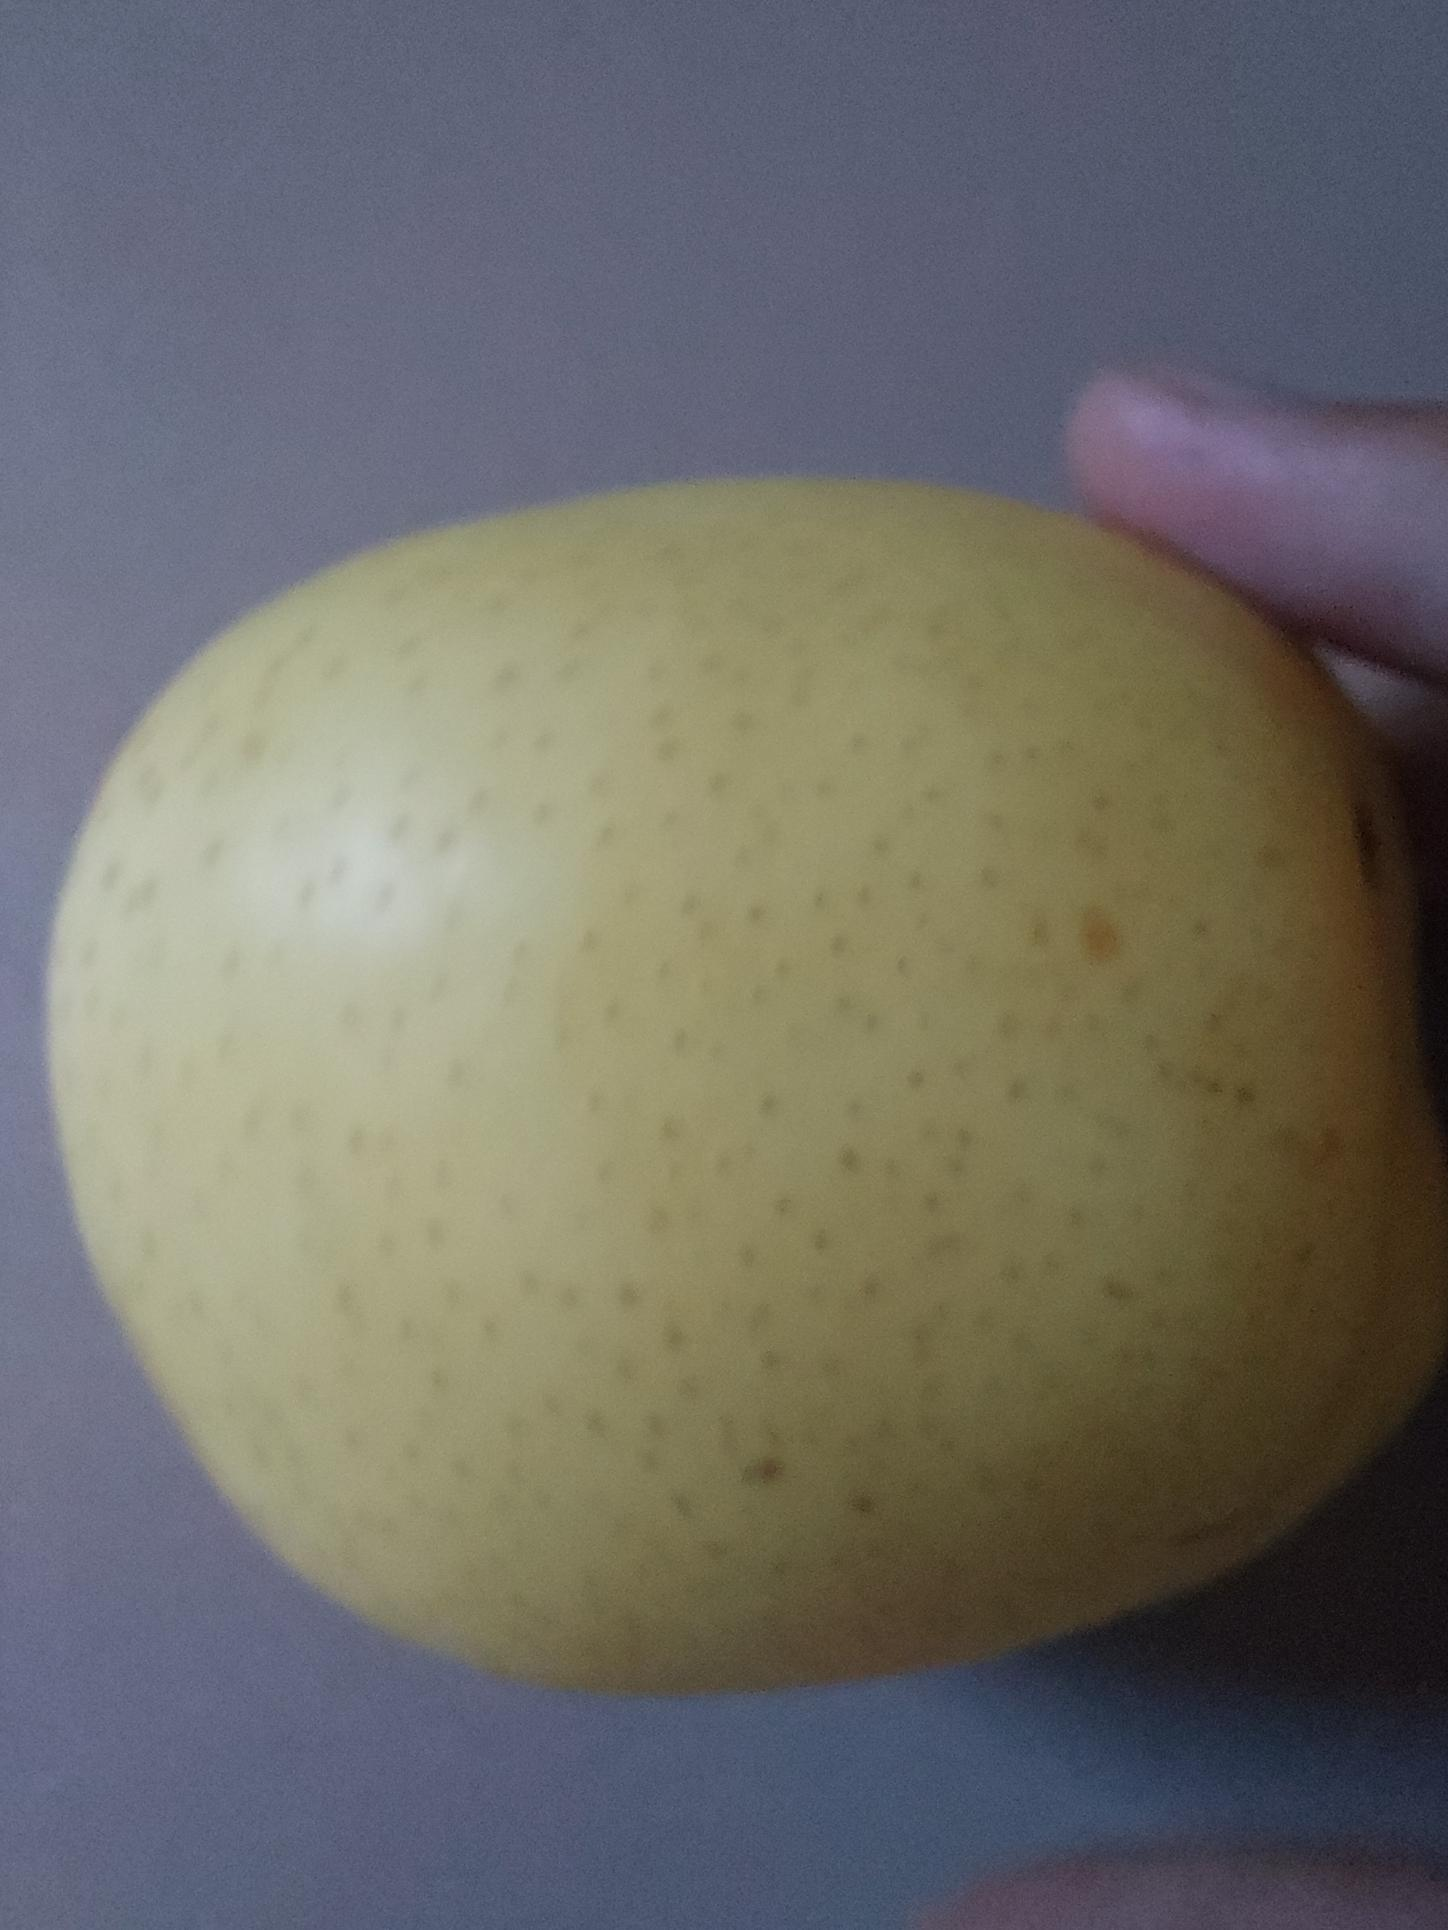Good Pear: (30, 478, 1448, 1714)
